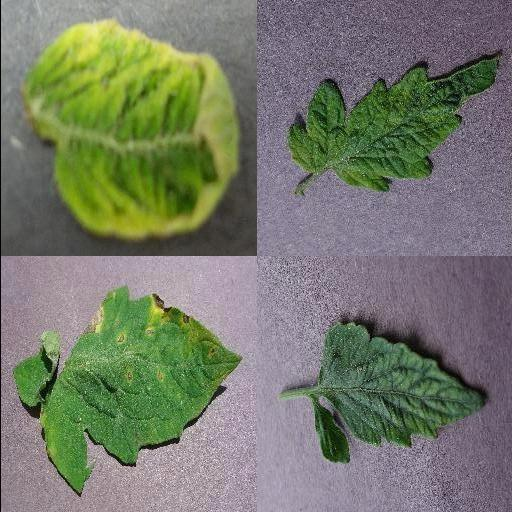Mosaic Virus: (285, 53, 503, 195), (310, 319, 487, 465)
Septoria: (43, 284, 243, 494)
Yellow Leaf Curl Virus: (22, 18, 240, 240)
